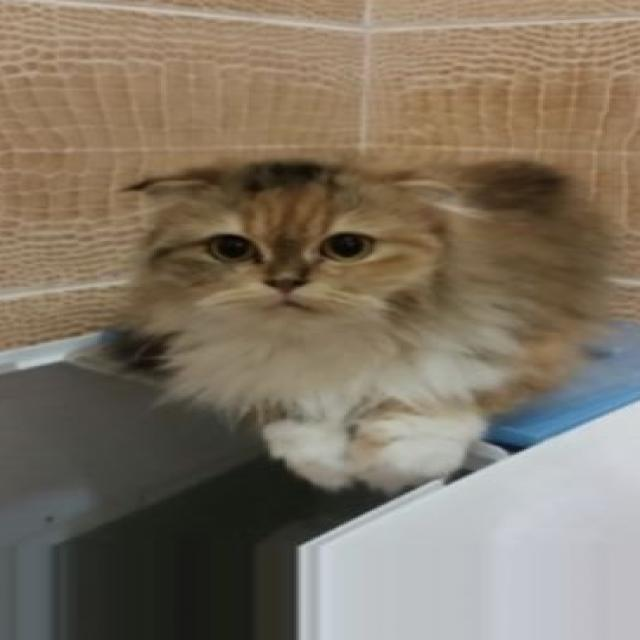Scottish Fold: (88, 151, 625, 495)
